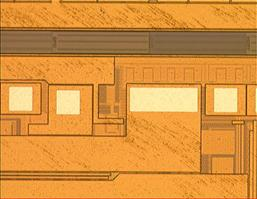SCRATCH: (1, 1, 257, 199)
